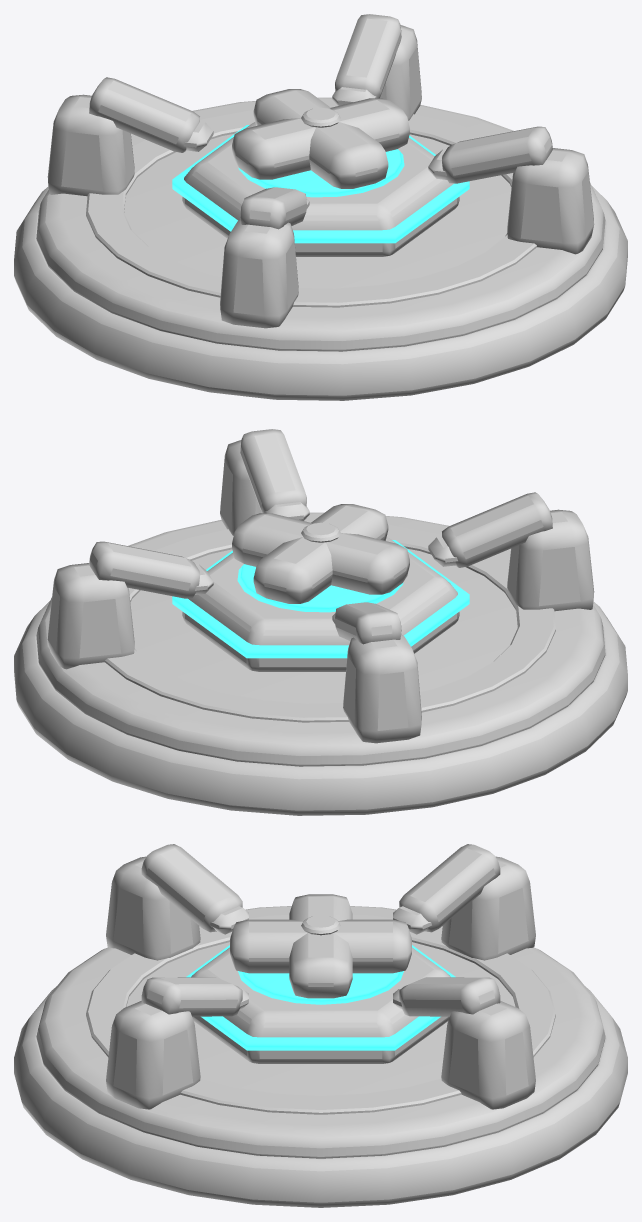
Rendered from SM_HealingPad.fbx.
3 views of the same model, one above another, from view 1: azimuth 30°, elevation 25°; view 2: azimuth 150°, elevation 25°; view 3: azimuth 270°, elevation 25° (orthographic).
Visible parts, largest first — view 1: HealingPad, Emitter; view 2: HealingPad, Emitter; view 3: HealingPad, Emitter.
Part boxes in pixels (x1,y1,x2,y2): HealingPad: (14,14,627,400); Emitter: (232,89,409,197); HealingPad: (14,429,627,815); Emitter: (232,504,409,612); HealingPad: (14,844,627,1207); Emitter: (230,894,411,1004).
Bounding box in the file's own units: 2.9 × 0.8594 × 2.9.
